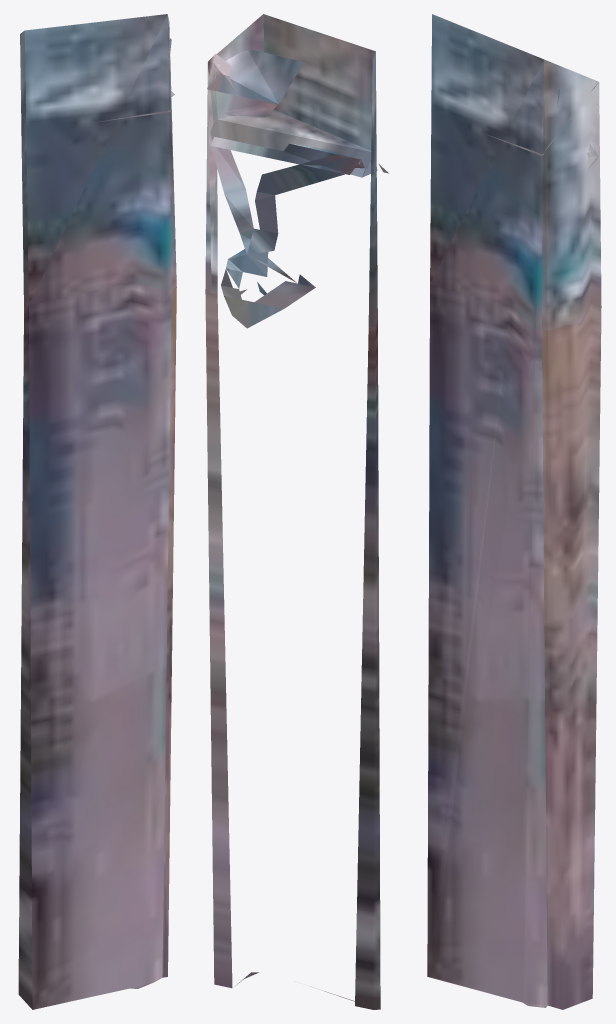
3 renders of one model, left to right at view 1: azimuth 30°, elevation 25°; view 2: azimuth 150°, elevation 25°; view 3: azimuth 330°, elevation 25°, orthographic.
Visible parts, largest first — view 1: Mesh_0; view 2: Mesh_0; view 3: Mesh_0.
Part boxes in pixels (box(x1,y1,x2,y2)): Mesh_0: box(18, 14, 176, 1009); Mesh_0: box(205, 14, 388, 1009); Mesh_0: box(427, 14, 601, 1009).
Bounding box in the file's own units: 4.63 × 25.49 × 1.59.
Materials: 1 (1 with a texture image).
